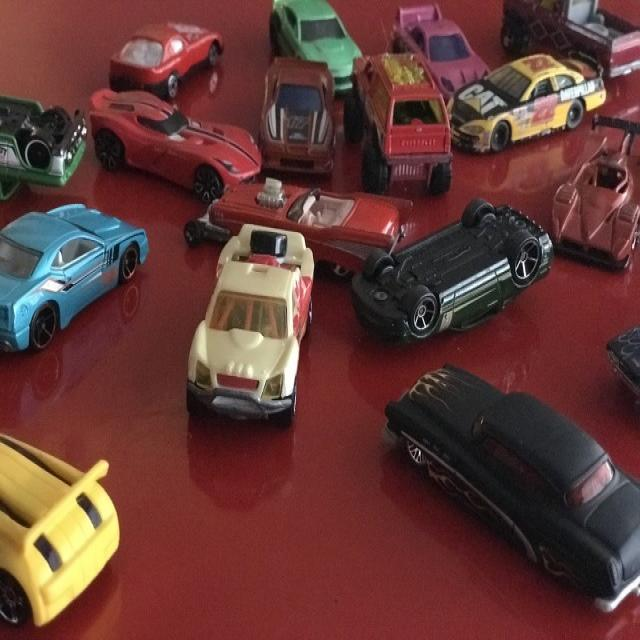Car: (383, 362, 639, 614), (185, 223, 314, 421), (0, 430, 120, 626), (0, 202, 149, 354), (108, 20, 224, 99)
